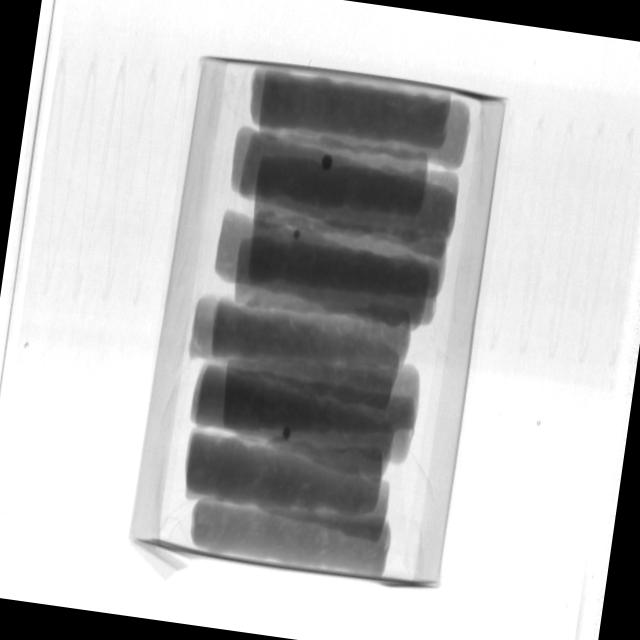ym: (322, 156, 335, 173), (282, 428, 292, 440), (295, 231, 303, 240)
